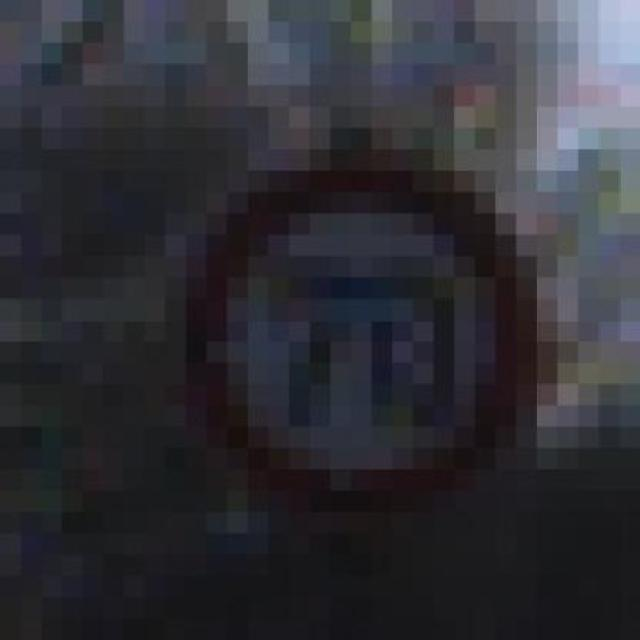forb_speed_over_70: (203, 163, 529, 502)
